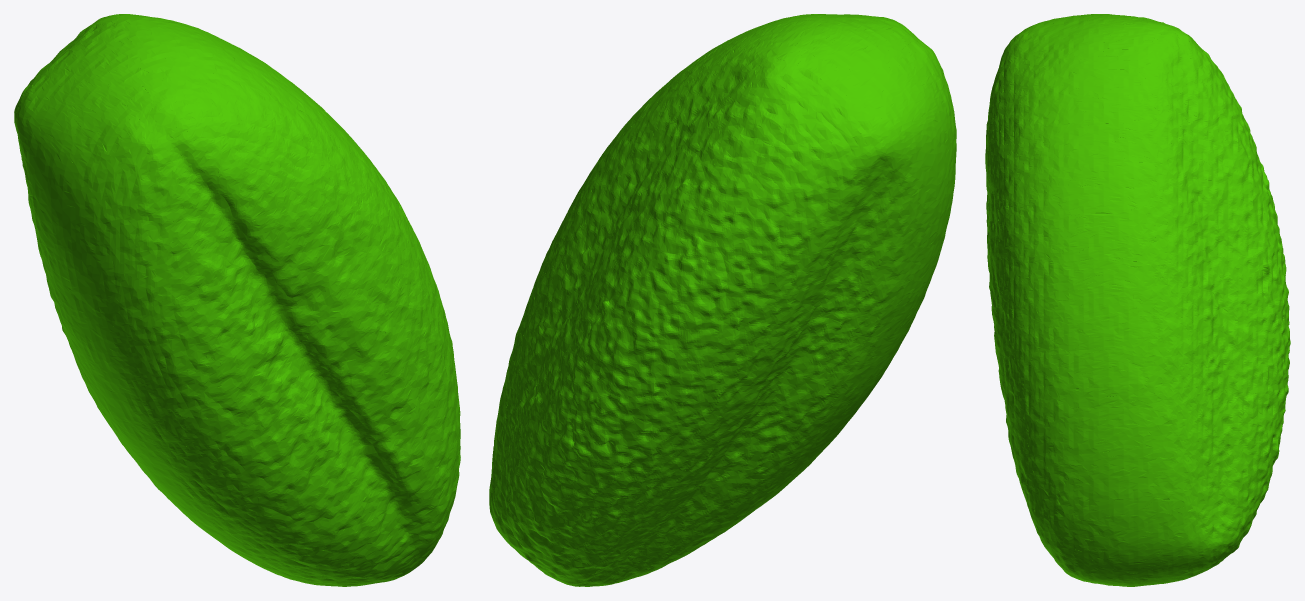
The model's file is 3DPX-017899-0.glb.
The picture shows the model from 3 angles, left to right: view 1: azimuth 30°, elevation 25°; view 2: azimuth 150°, elevation 25°; view 3: azimuth 270°, elevation 25°; orthographic projection. The views are drawn at different scales.
Bounding box in the file's own units: 32.02 × 44.47 × 25.74.
